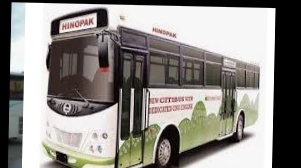bus: (40, 7, 261, 168)
